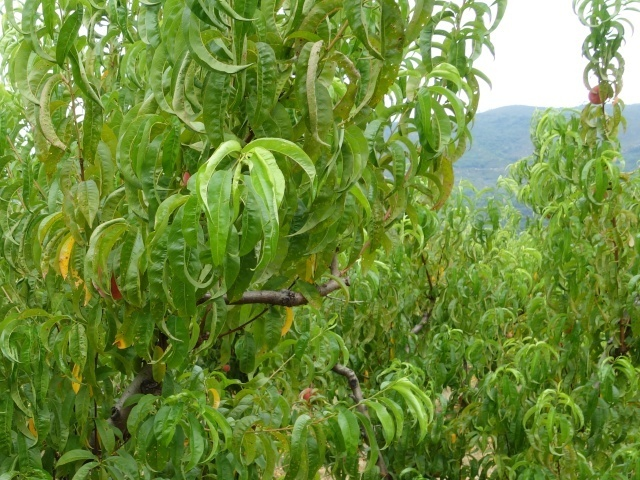peach: (93, 270, 126, 304), (587, 82, 608, 108)
